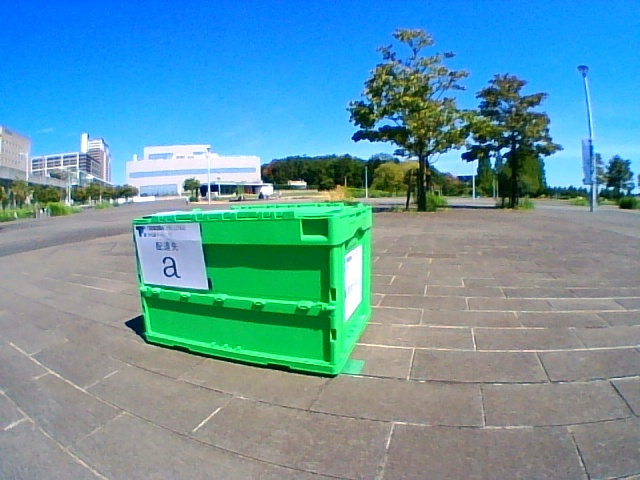green_box: (133, 202, 372, 375)
tag_a: (144, 229, 198, 284)
